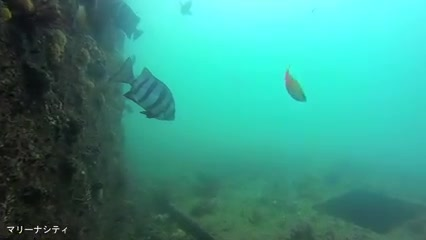ishidai: (105, 55, 189, 123)
smallfish: (115, 1, 142, 42)
